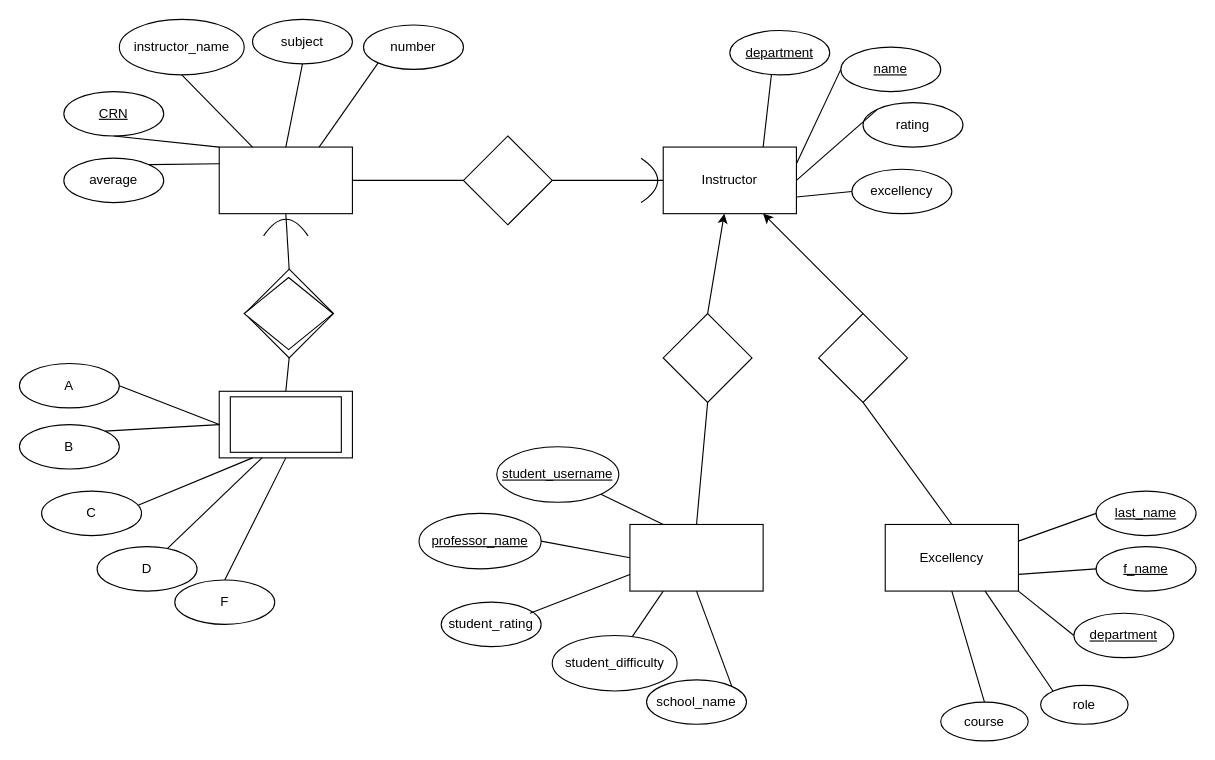
Image size: 1215x760. Some labels were removed from this diagram. The shapes that lost their labels are listed below. From the top down, each one's box as (x1, y1, x2, y2) in pixels, then its label:
(218, 146, 352, 214): Section
(462, 135, 552, 225): has
(243, 276, 333, 350): graded
(662, 312, 752, 402): rated
(818, 312, 907, 402): awarded
(229, 396, 341, 452): Disparity
(629, 523, 763, 591): Ratings
